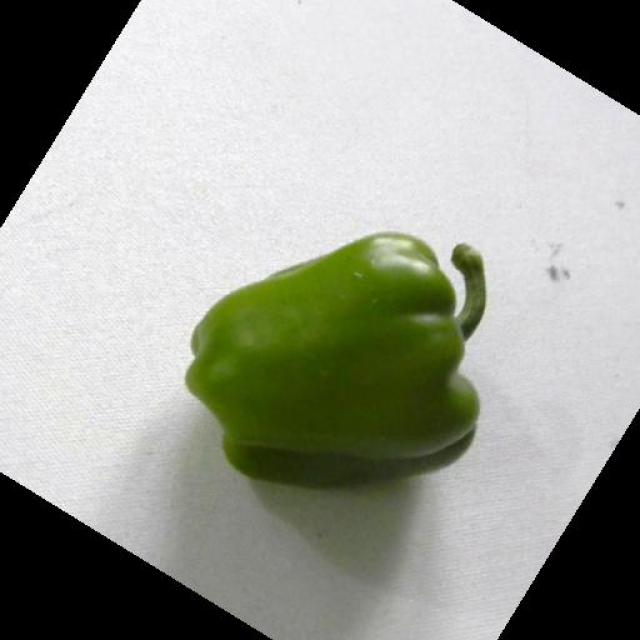Fresh_Capsicum: (200, 264, 500, 464)
